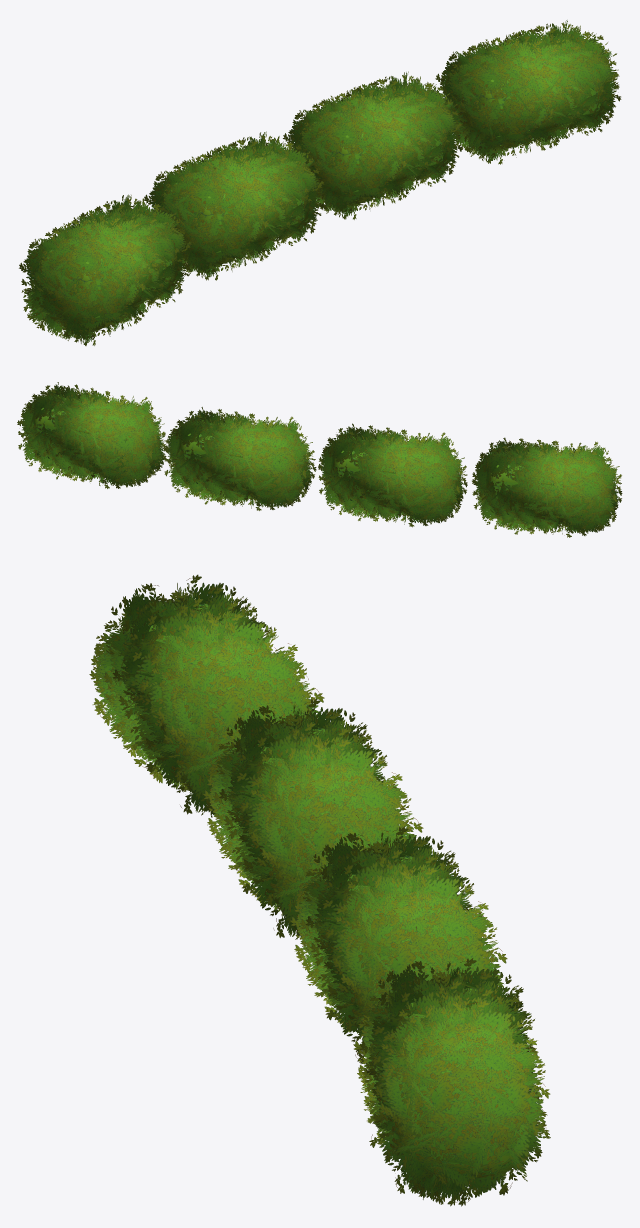
The model's file is SM_Bush06_Splines_0.fbx.
3 views of the same model, one above another, from view 1: azimuth 30°, elevation 25°; view 2: azimuth 150°, elevation 25°; view 3: azimuth 270°, elevation 25° (orthographic). The views are drawn at different scales.
Parts seen in each view (by area): view 1: SM_Bush06_Splines_0_LOD0; view 2: SM_Bush06_Splines_0_LOD0; view 3: SM_Bush06_Splines_0_LOD0.
Boxes of the visible parts, x1,y1,x2,y2 form: SM_Bush06_Splines_0_LOD0: (19, 20, 621, 345); SM_Bush06_Splines_0_LOD0: (17, 382, 622, 537); SM_Bush06_Splines_0_LOD0: (89, 574, 550, 1206).
Size of the model in its own units: 1025 by 395 by 166.
